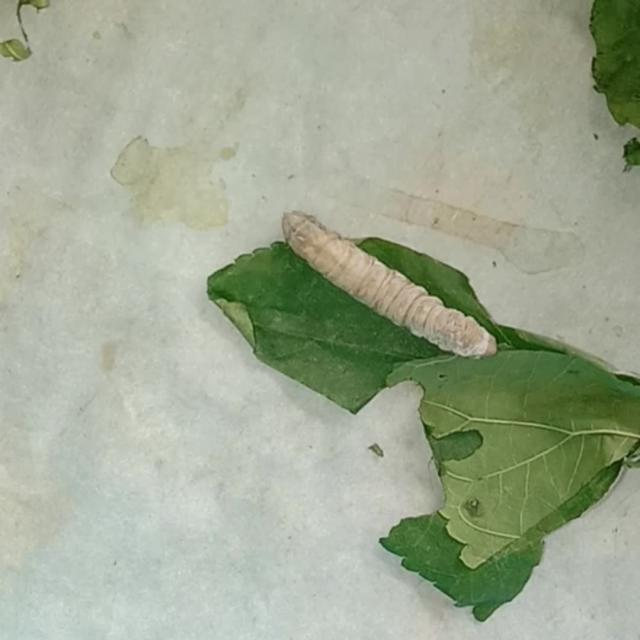Grasserie: (261, 181, 508, 378)
